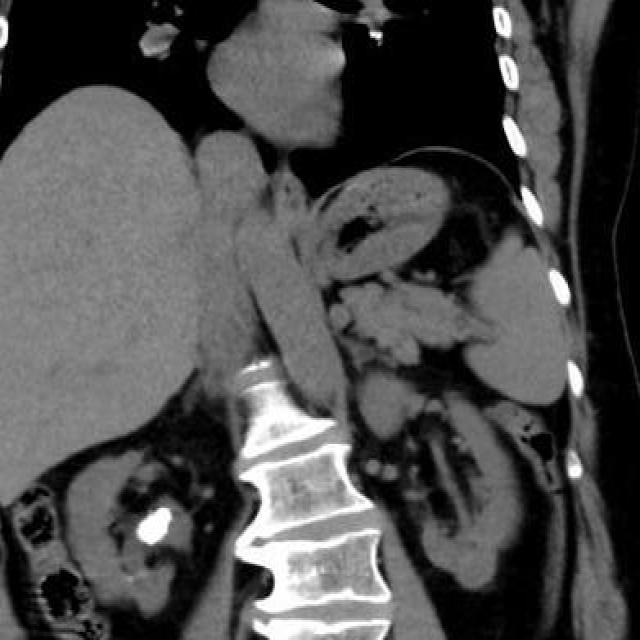Tas_Var: (130, 501, 178, 551), (124, 575, 134, 583)
